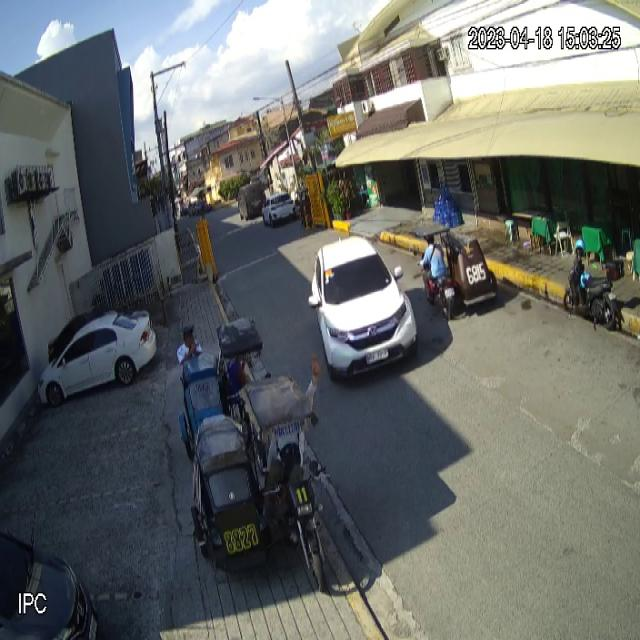Car: (308, 235, 418, 380), (37, 310, 158, 411)
Motorcycle: (564, 251, 626, 329)
Tricycle: (190, 373, 328, 591), (179, 317, 264, 459), (413, 221, 499, 318)
